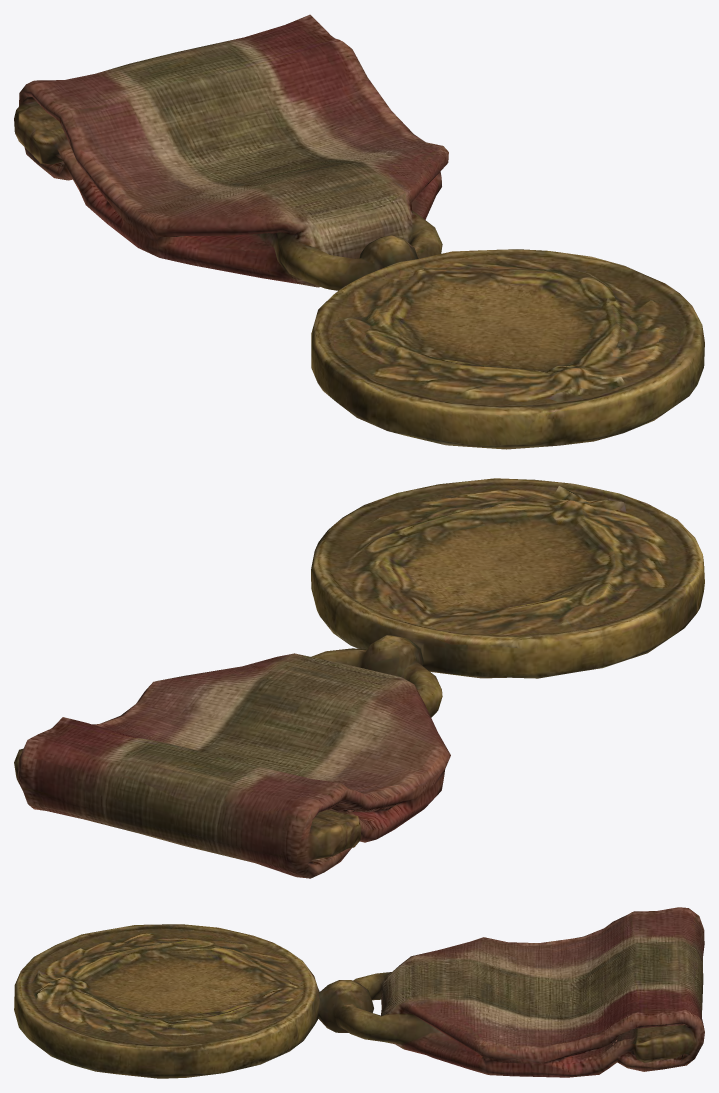
File: medal.glb
3 renders of one model, top to bottom at view 1: azimuth 30°, elevation 25°; view 2: azimuth 150°, elevation 25°; view 3: azimuth 270°, elevation 25°, orthographic. The views are drawn at different scales.
Visible parts, largest first — view 1: Mesh_0; view 2: Mesh_0; view 3: Mesh_0.
Part boxes in pixels (x1,y1,x2,y2): Mesh_0: (14, 14, 704, 449); Mesh_0: (14, 478, 704, 878); Mesh_0: (14, 907, 704, 1078).
Bounding box in the file's own units: 0.4401 × 0.1262 × 1.
1 material, 1 textured.
